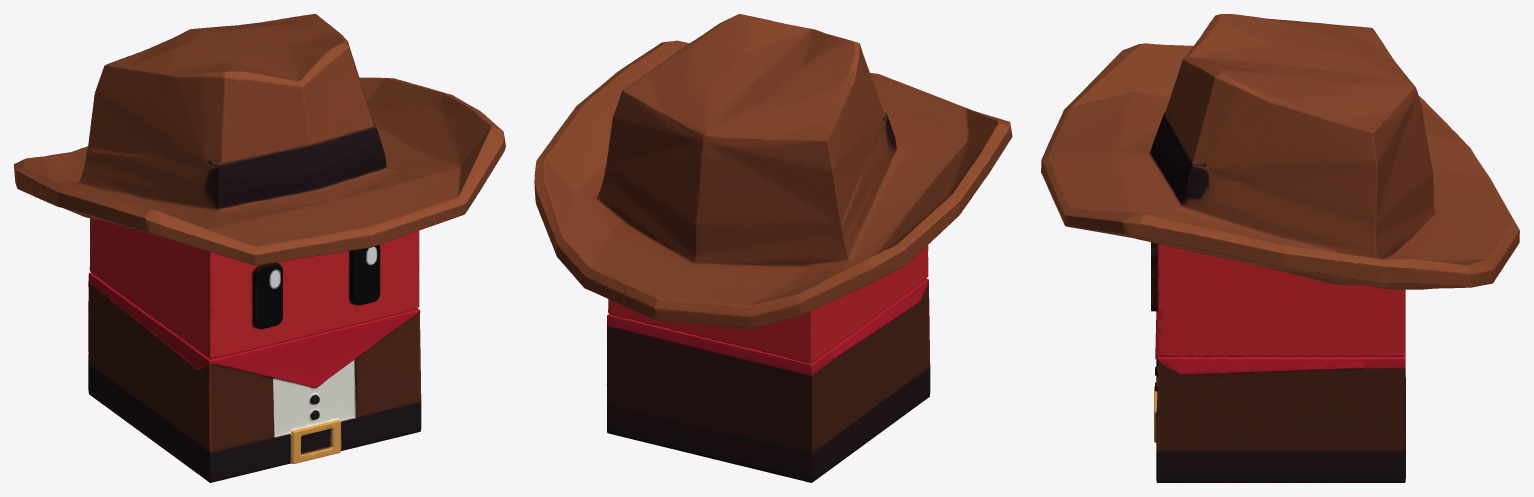
Rendered from cubecowboy.glb.
3 renders of one model, left to right at view 1: azimuth 30°, elevation 25°; view 2: azimuth 150°, elevation 25°; view 3: azimuth 270°, elevation 25°, orthographic. The views are drawn at different scales.
Bounding box in the file's own units: 1.85 × 1.68 × 1.89.
1 material, 1 textured.
